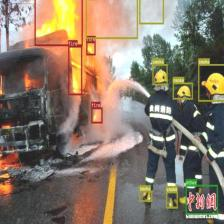fire: (34, 0, 82, 46), (68, 46, 82, 95), (92, 107, 103, 123), (86, 41, 95, 55)
smoke: (85, 0, 137, 38), (198, 64, 224, 101), (139, 0, 164, 24), (172, 82, 193, 99), (152, 64, 168, 85), (166, 191, 177, 208), (139, 190, 152, 202)
